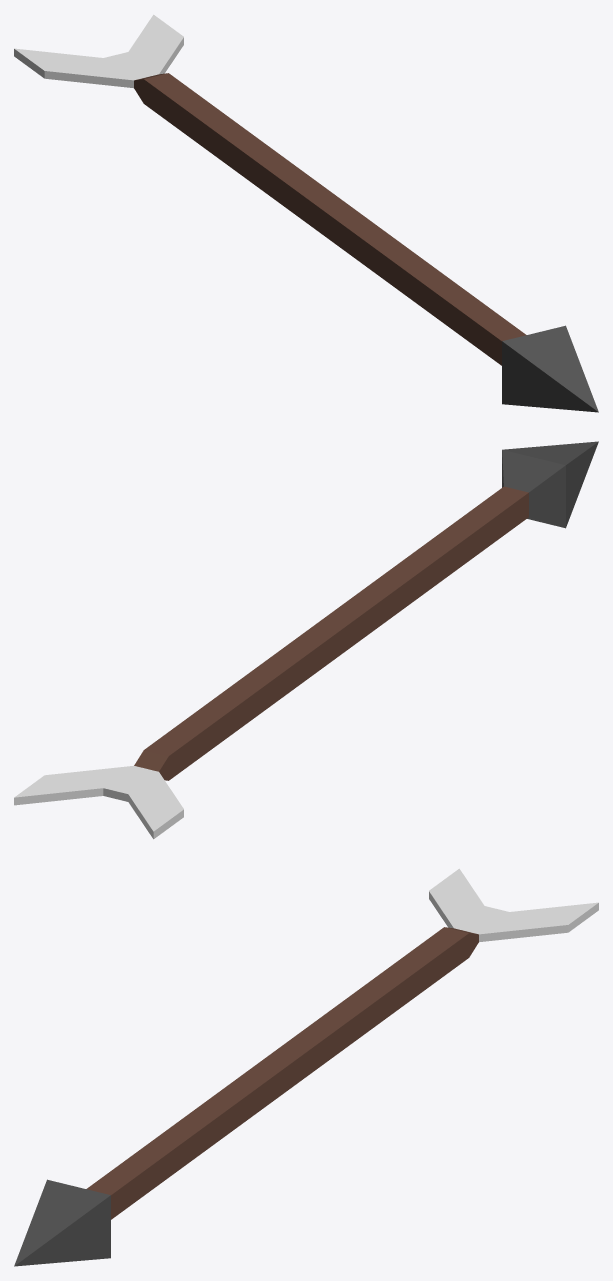
The model's file is Arrow.glb.
The picture shows the model from 3 angles, top to bottom: view 1: azimuth 30°, elevation 25°; view 2: azimuth 150°, elevation 25°; view 3: azimuth 330°, elevation 25°; orthographic projection.
Visible parts, largest first — view 1: Cube; view 2: Cube; view 3: Cube.
Part boxes in pixels (<box>): Cube: <box>14,14,598,412</box>; Cube: <box>14,441,598,839</box>; Cube: <box>14,868,598,1266</box>.
Bounding box in the file's own units: 0.1163 × 0.0502 × 0.7438.
